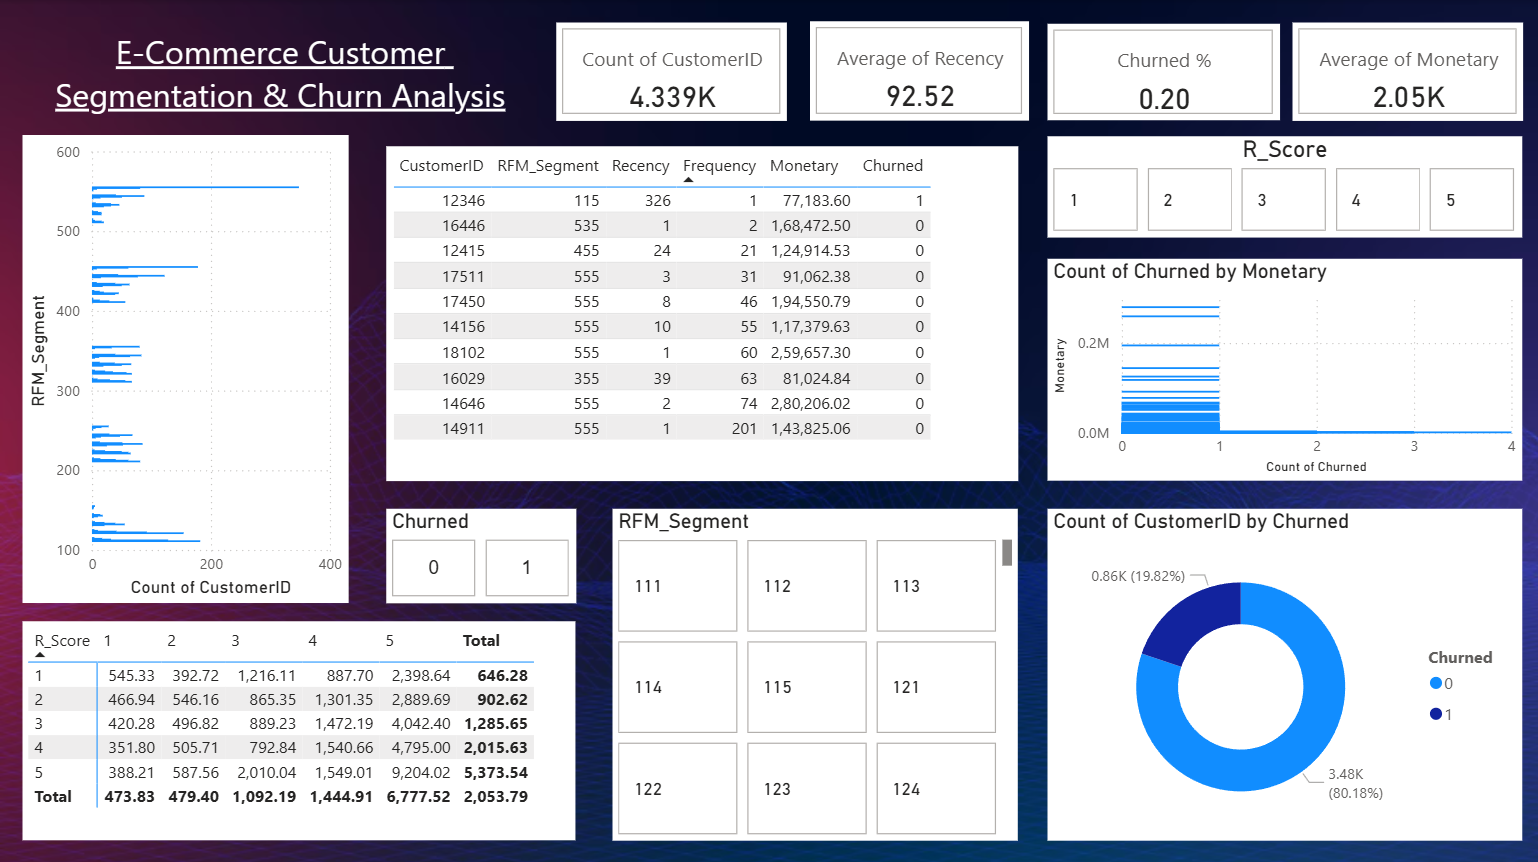

Layout of this report page (visuals, bound fields, positions):
{"tool":"powerbi","page":{"name":"Page 1","canvas":[1280,720],"ordinal":0},"visuals":[{"type":"cardVisual","fields":{"Data":["CountNonNull(rfm_churn.CustomerID)"]},"box":[461.2,18.8,191.2,81.2],"z":0},{"type":"cardVisual","fields":{"Data":["Avg(rfm_churn.Monetary)"]},"box":[1071.2,18.8,191.2,81.2],"z":1000},{"type":"cardVisual","fields":{"Data":["rfm_churn.Churned %"]},"box":[868.8,20,192.5,80],"z":2000},{"type":"cardVisual","fields":{"Data":["Avg(rfm_churn.Recency)"]},"box":[671.2,17.5,181.2,82.5],"z":3000},{"type":"barChart","fields":{"Category":["rfm_churn.RFM_Segment"],"Y":["CountNonNull(rfm_churn.CustomerID)"]},"box":[18.9,112.2,270,387.8],"z":4000},{"type":"pivotTable","fields":{"Rows":["rfm_churn.R_Score"],"Columns":["rfm_churn.F_Score"],"Values":["Avg(rfm_churn.Monetary)"]},"box":[18.8,515,458.8,181.2],"z":5000},{"type":"donutChart","fields":{"Category":["rfm_churn.Churned"],"Y":["CountNonNull(rfm_churn.CustomerID)"]},"box":[868.8,421.2,393.8,275],"z":6000},{"type":"clusteredBarChart","fields":{"Category":["rfm_churn.Monetary"],"Y":["CountNonNull(rfm_churn.Churned)"]},"box":[868.8,215,393.8,183.8],"z":7000},{"type":"advancedSlicerVisual","fields":{"Values":["rfm_churn.RFM_Segment"]},"box":[507.5,421.2,336.2,275],"z":8000},{"type":"advancedSlicerVisual","fields":{"Values":["rfm_churn.R_Score"]},"box":[868.8,112.5,393.8,83.8],"z":9000},{"type":"tableEx","fields":{"Values":["rfm_churn.CustomerID","rfm_churn.RFM_Segment","rfm_churn.Recency","rfm_churn.Frequency","rfm_churn.Monetary","rfm_churn.Churned"]},"box":[320,121.2,523.8,277.5],"z":10000},{"type":"textbox","box":[18.8,20,427.5,80],"z":11000},{"type":"advancedSlicerVisual","fields":{"Values":["rfm_churn.Churned"]},"box":[320,421.2,157.5,78.8],"z":12000}]}

Visuals, with their boxes in screenshot pixels (x1, y1, x2, y2), scaled from the page's 1280x720 canvas onto the 1538x862 screenshot:
cardVisual - CountNonNull(rfm_churn.CustomerID): [554, 23, 784, 120]
cardVisual - Avg(rfm_churn.Monetary): [1287, 23, 1517, 120]
cardVisual - rfm_churn.Churned %: [1044, 24, 1275, 120]
cardVisual - Avg(rfm_churn.Recency): [806, 21, 1024, 120]
barChart - rfm_churn.RFM_Segment x CountNonNull(rfm_churn.CustomerID): [23, 134, 347, 599]
pivotTable - rfm_churn.R_Score x rfm_churn.F_Score: [23, 617, 574, 834]
donutChart - rfm_churn.Churned x CountNonNull(rfm_churn.CustomerID): [1044, 504, 1517, 834]
clusteredBarChart - rfm_churn.Monetary x CountNonNull(rfm_churn.Churned): [1044, 257, 1517, 477]
advancedSlicerVisual - rfm_churn.RFM_Segment: [610, 504, 1014, 834]
advancedSlicerVisual - rfm_churn.R_Score: [1044, 135, 1517, 235]
tableEx - rfm_churn.CustomerID x rfm_churn.RFM_Segment: [384, 145, 1014, 477]
textbox: [23, 24, 536, 120]
advancedSlicerVisual - rfm_churn.Churned: [384, 504, 574, 599]
